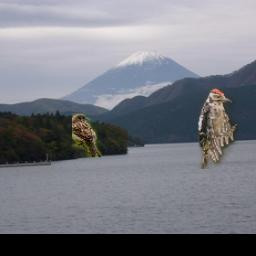Sparrow: (71, 113, 101, 157)
Woodpecker: (198, 89, 238, 169)
